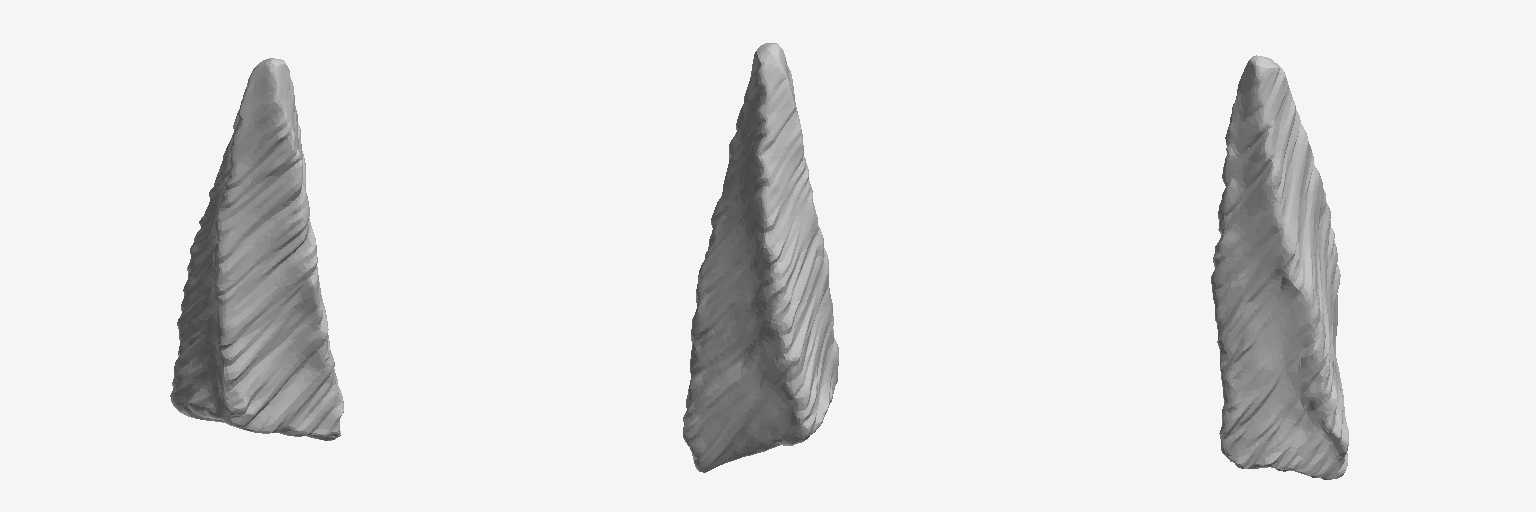
The model's file is CL_drums_dir3_LOD1.obj.
3 renders of one model, left to right at view 1: azimuth 30°, elevation 25°; view 2: azimuth 150°, elevation 25°; view 3: azimuth 270°, elevation 25°, orthographic.
Size of the model in its own units: 0.347 by 1.04 by 0.3207.